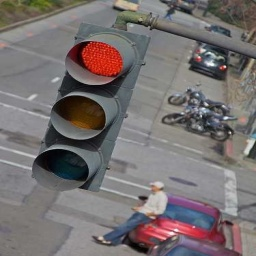traffic light: (32, 22, 150, 193)
